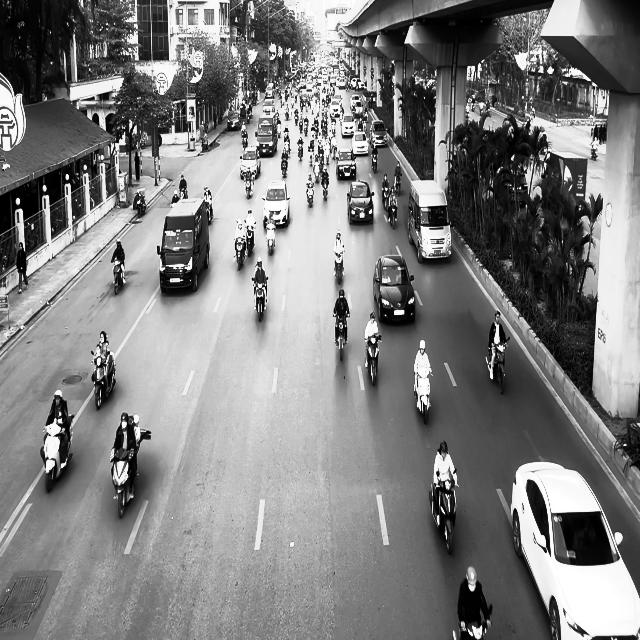car: (510, 460, 640, 640), (373, 252, 416, 323), (262, 179, 290, 228), (347, 180, 374, 224), (336, 148, 356, 180), (240, 146, 260, 178), (351, 130, 369, 156)
motorbike: (110, 430, 150, 518), (40, 414, 74, 493), (428, 476, 458, 555), (90, 348, 116, 409), (452, 604, 492, 640), (485, 337, 510, 394), (413, 368, 432, 424), (364, 334, 382, 385), (252, 275, 268, 322), (334, 312, 349, 361), (112, 260, 125, 294), (333, 247, 345, 283), (244, 221, 256, 256), (234, 237, 246, 270), (265, 221, 276, 255), (134, 189, 146, 216), (243, 173, 254, 199), (321, 173, 329, 200), (205, 198, 213, 225), (306, 181, 314, 206), (371, 146, 378, 172)
truck: (156, 197, 210, 293)
